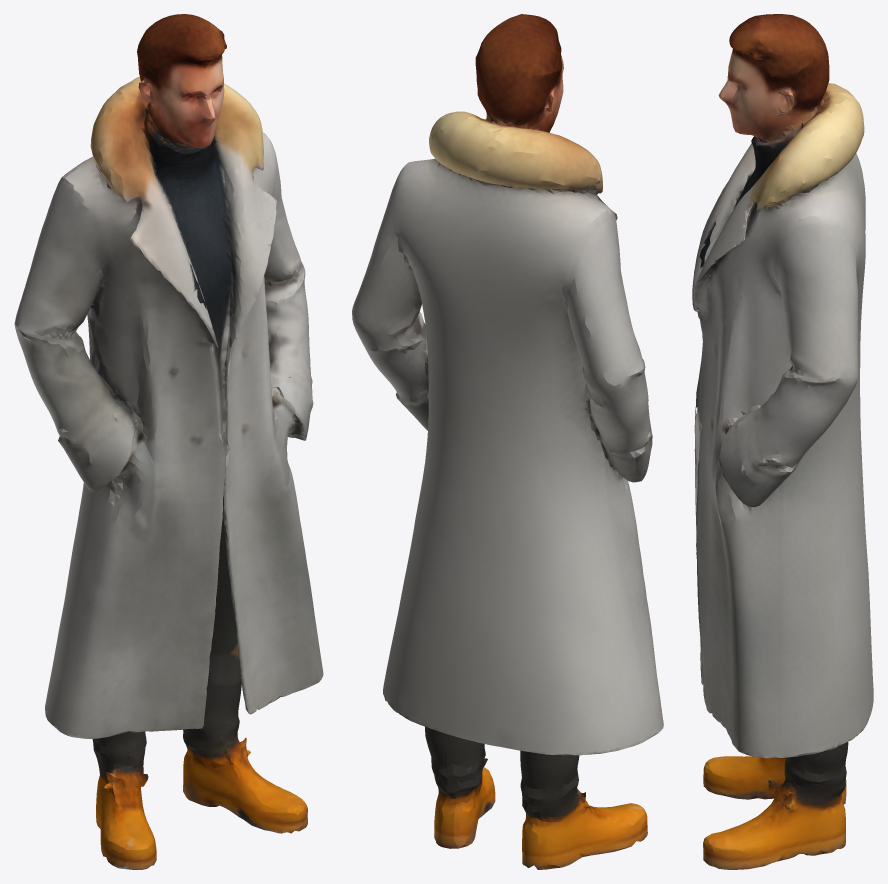
Rendered from winter_upgraded.glb.
The picture shows the model from 3 angles, left to right: view 1: azimuth 30°, elevation 25°; view 2: azimuth 150°, elevation 25°; view 3: azimuth 270°, elevation 25°; orthographic projection.
Parts seen in each view (by area): view 1: winter_upgraded; view 2: winter_upgraded; view 3: winter_upgraded.
Part boxes in pixels (bbox=[...]): winter_upgraded: bbox=[14, 14, 323, 869]; winter_upgraded: bbox=[352, 14, 663, 869]; winter_upgraded: bbox=[692, 14, 873, 869].
Bounding box in the file's own units: 0.6937 × 1.9 × 0.3882.
Materials: 1 (1 with a texture image).
